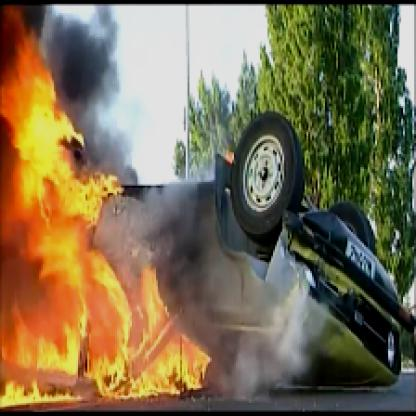Fire: (2, 4, 212, 405)
